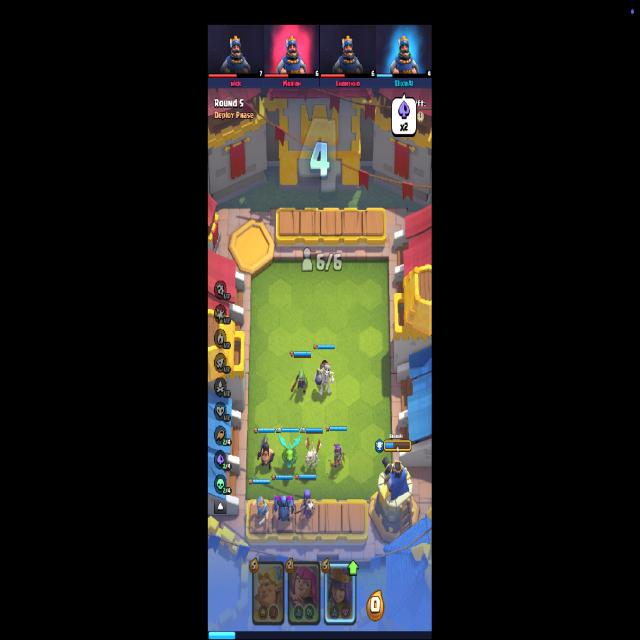archer_queen: (329, 442, 345, 469)
baby_dragon: (278, 434, 301, 466)
bandit: (290, 368, 308, 398)
card_archer: (288, 561, 320, 625)
card_archer_queen: (324, 560, 356, 624)
card_golden_knight: (250, 560, 285, 626)
executioner: (256, 434, 274, 471)
giant_skeleton: (315, 359, 334, 396)
knight: (251, 497, 269, 526)
pekka: (272, 493, 296, 523)
skeleton_dragon: (304, 436, 320, 467)
witch: (294, 490, 316, 521)
